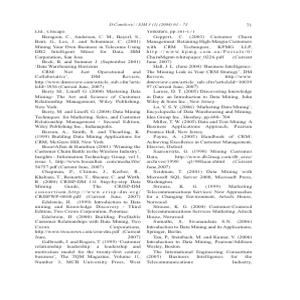text: (30, 29, 143, 265), (145, 27, 256, 266)
